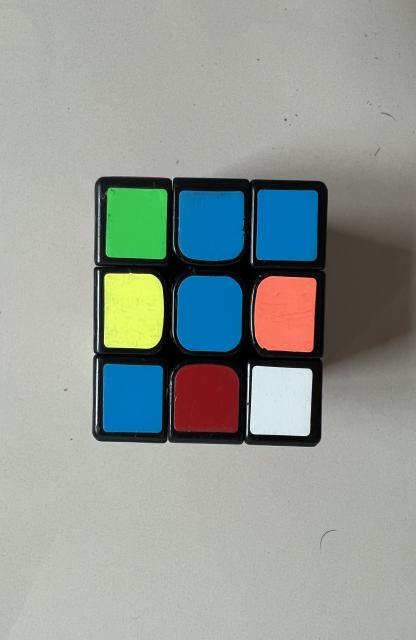Blue: (177, 275, 243, 351), (179, 190, 244, 261), (257, 190, 318, 261), (103, 364, 164, 432)
Green: (106, 188, 168, 259)
Orange: (255, 276, 316, 352)
Red: (174, 364, 239, 432)
White: (250, 367, 313, 437)
Yellow: (104, 272, 165, 349)
